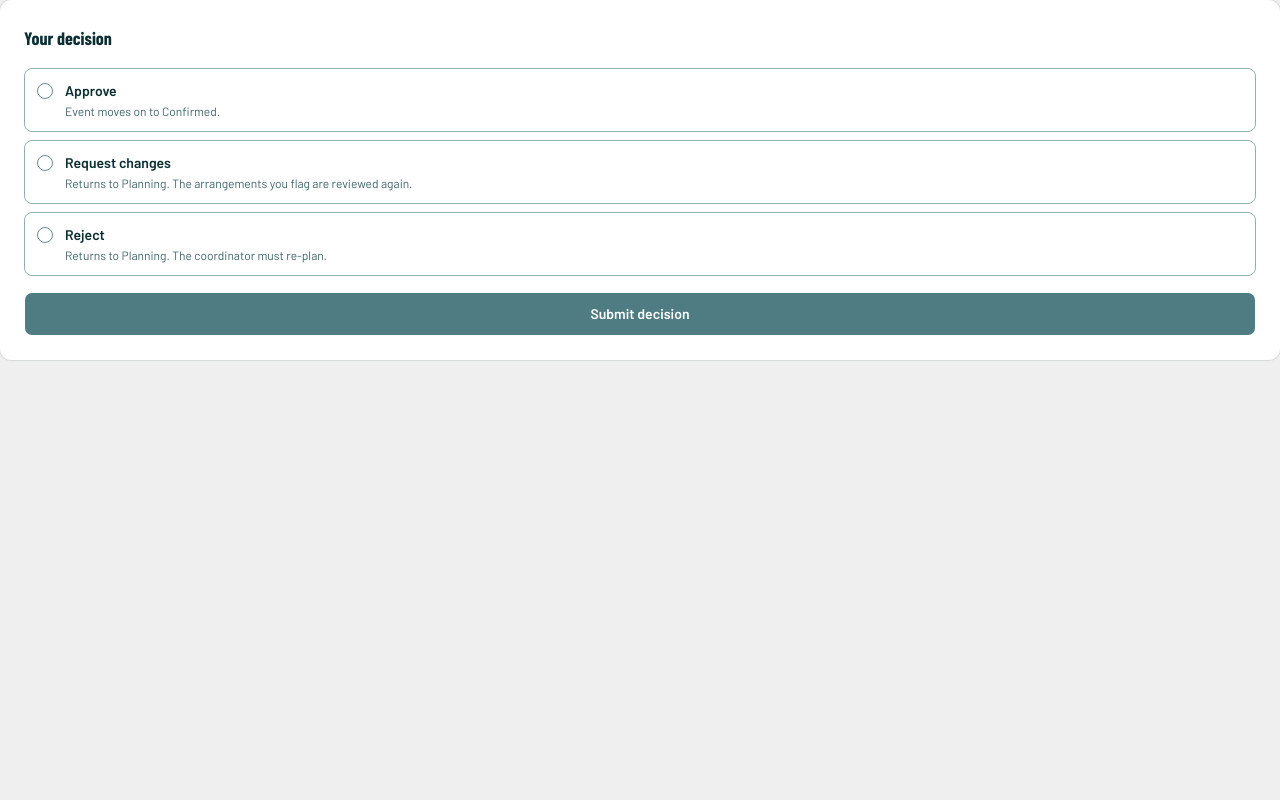
SCRUM-142/AC3 confirm a decision › SCRUM-142/AC3 stops Request changes without a note before anything is sent
What coordinates should you click on to do the following:
click the radio button next to "Request changes"
I would click on:
 (45, 163)
Its box is [37,155,53,171].
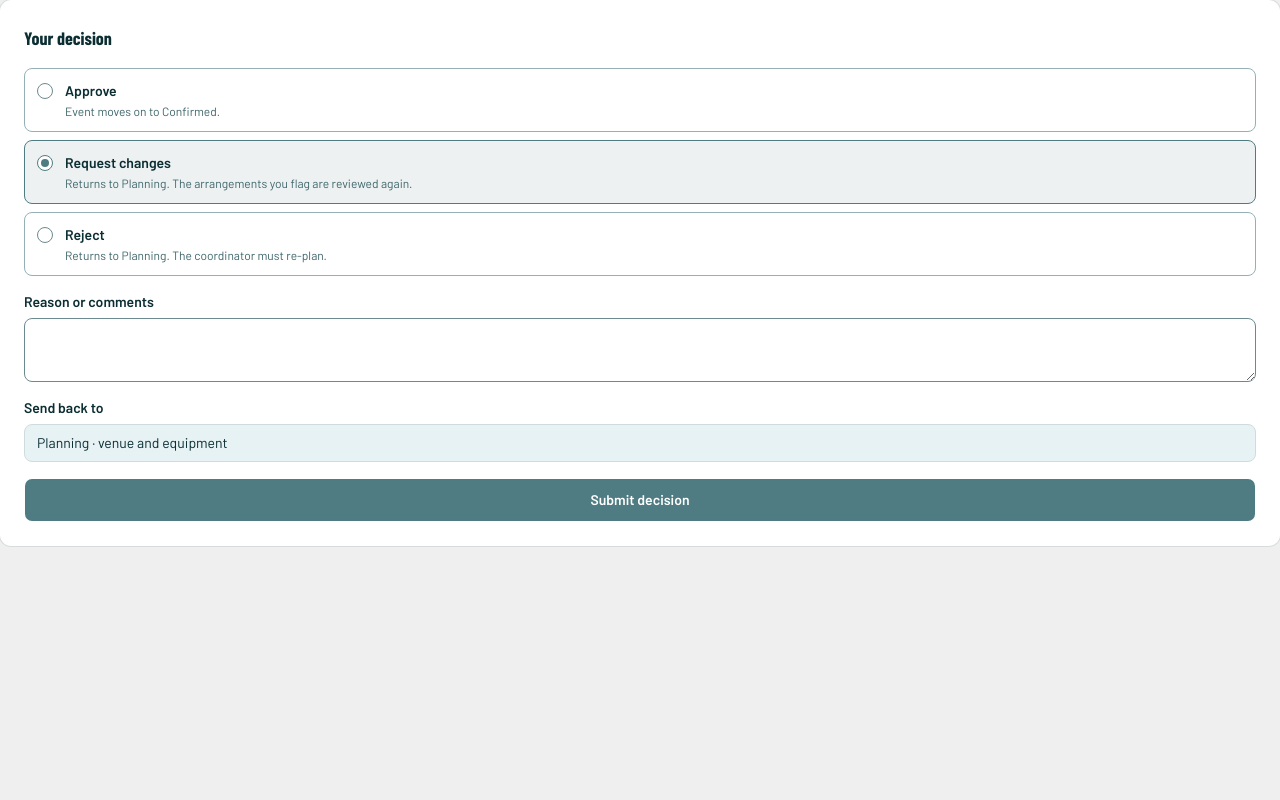
What coordinates should you click on to do the following:
click the button "Submit decision"
I would click on:
 (640, 500)
Its box is [24,478,1256,522].
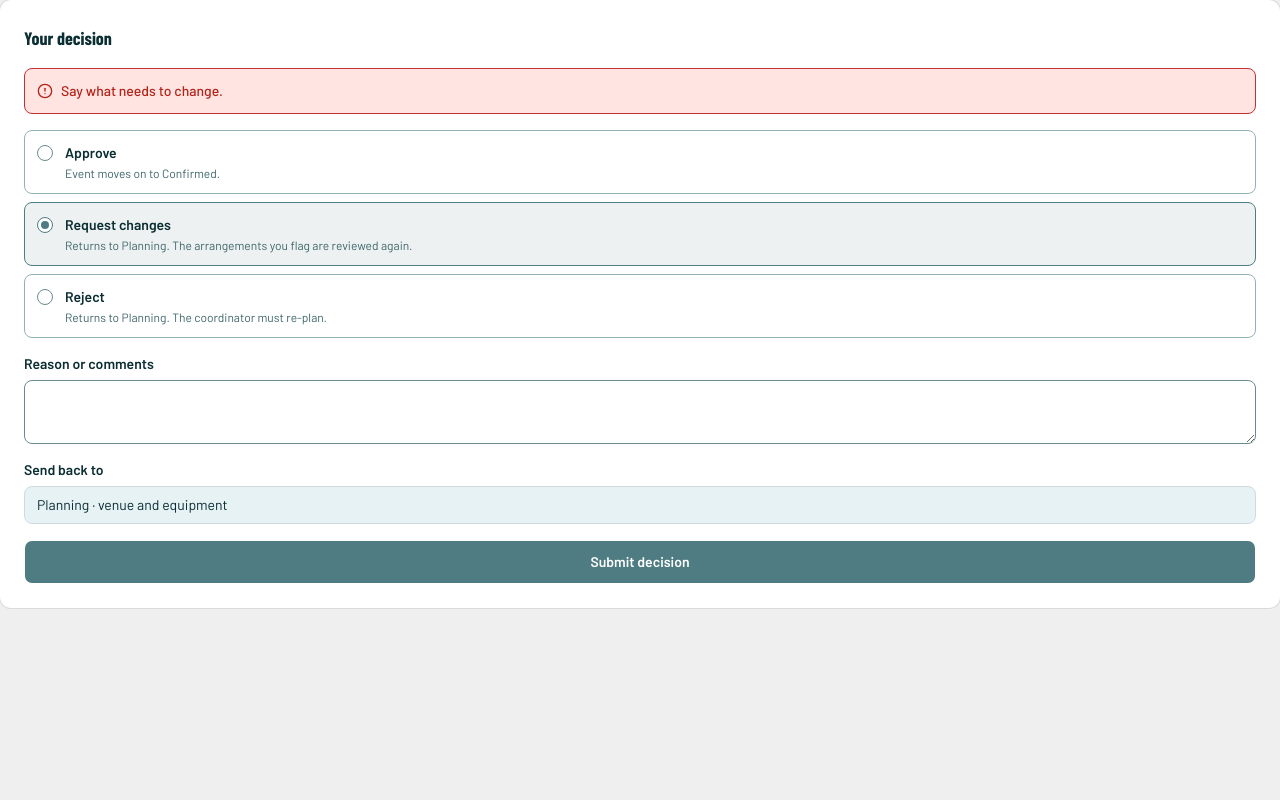
Now the message reads "Say what needs to change.", box [61,82,223,99]
